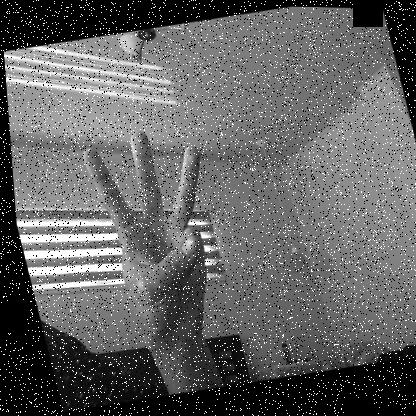W: (73, 116, 242, 351)
